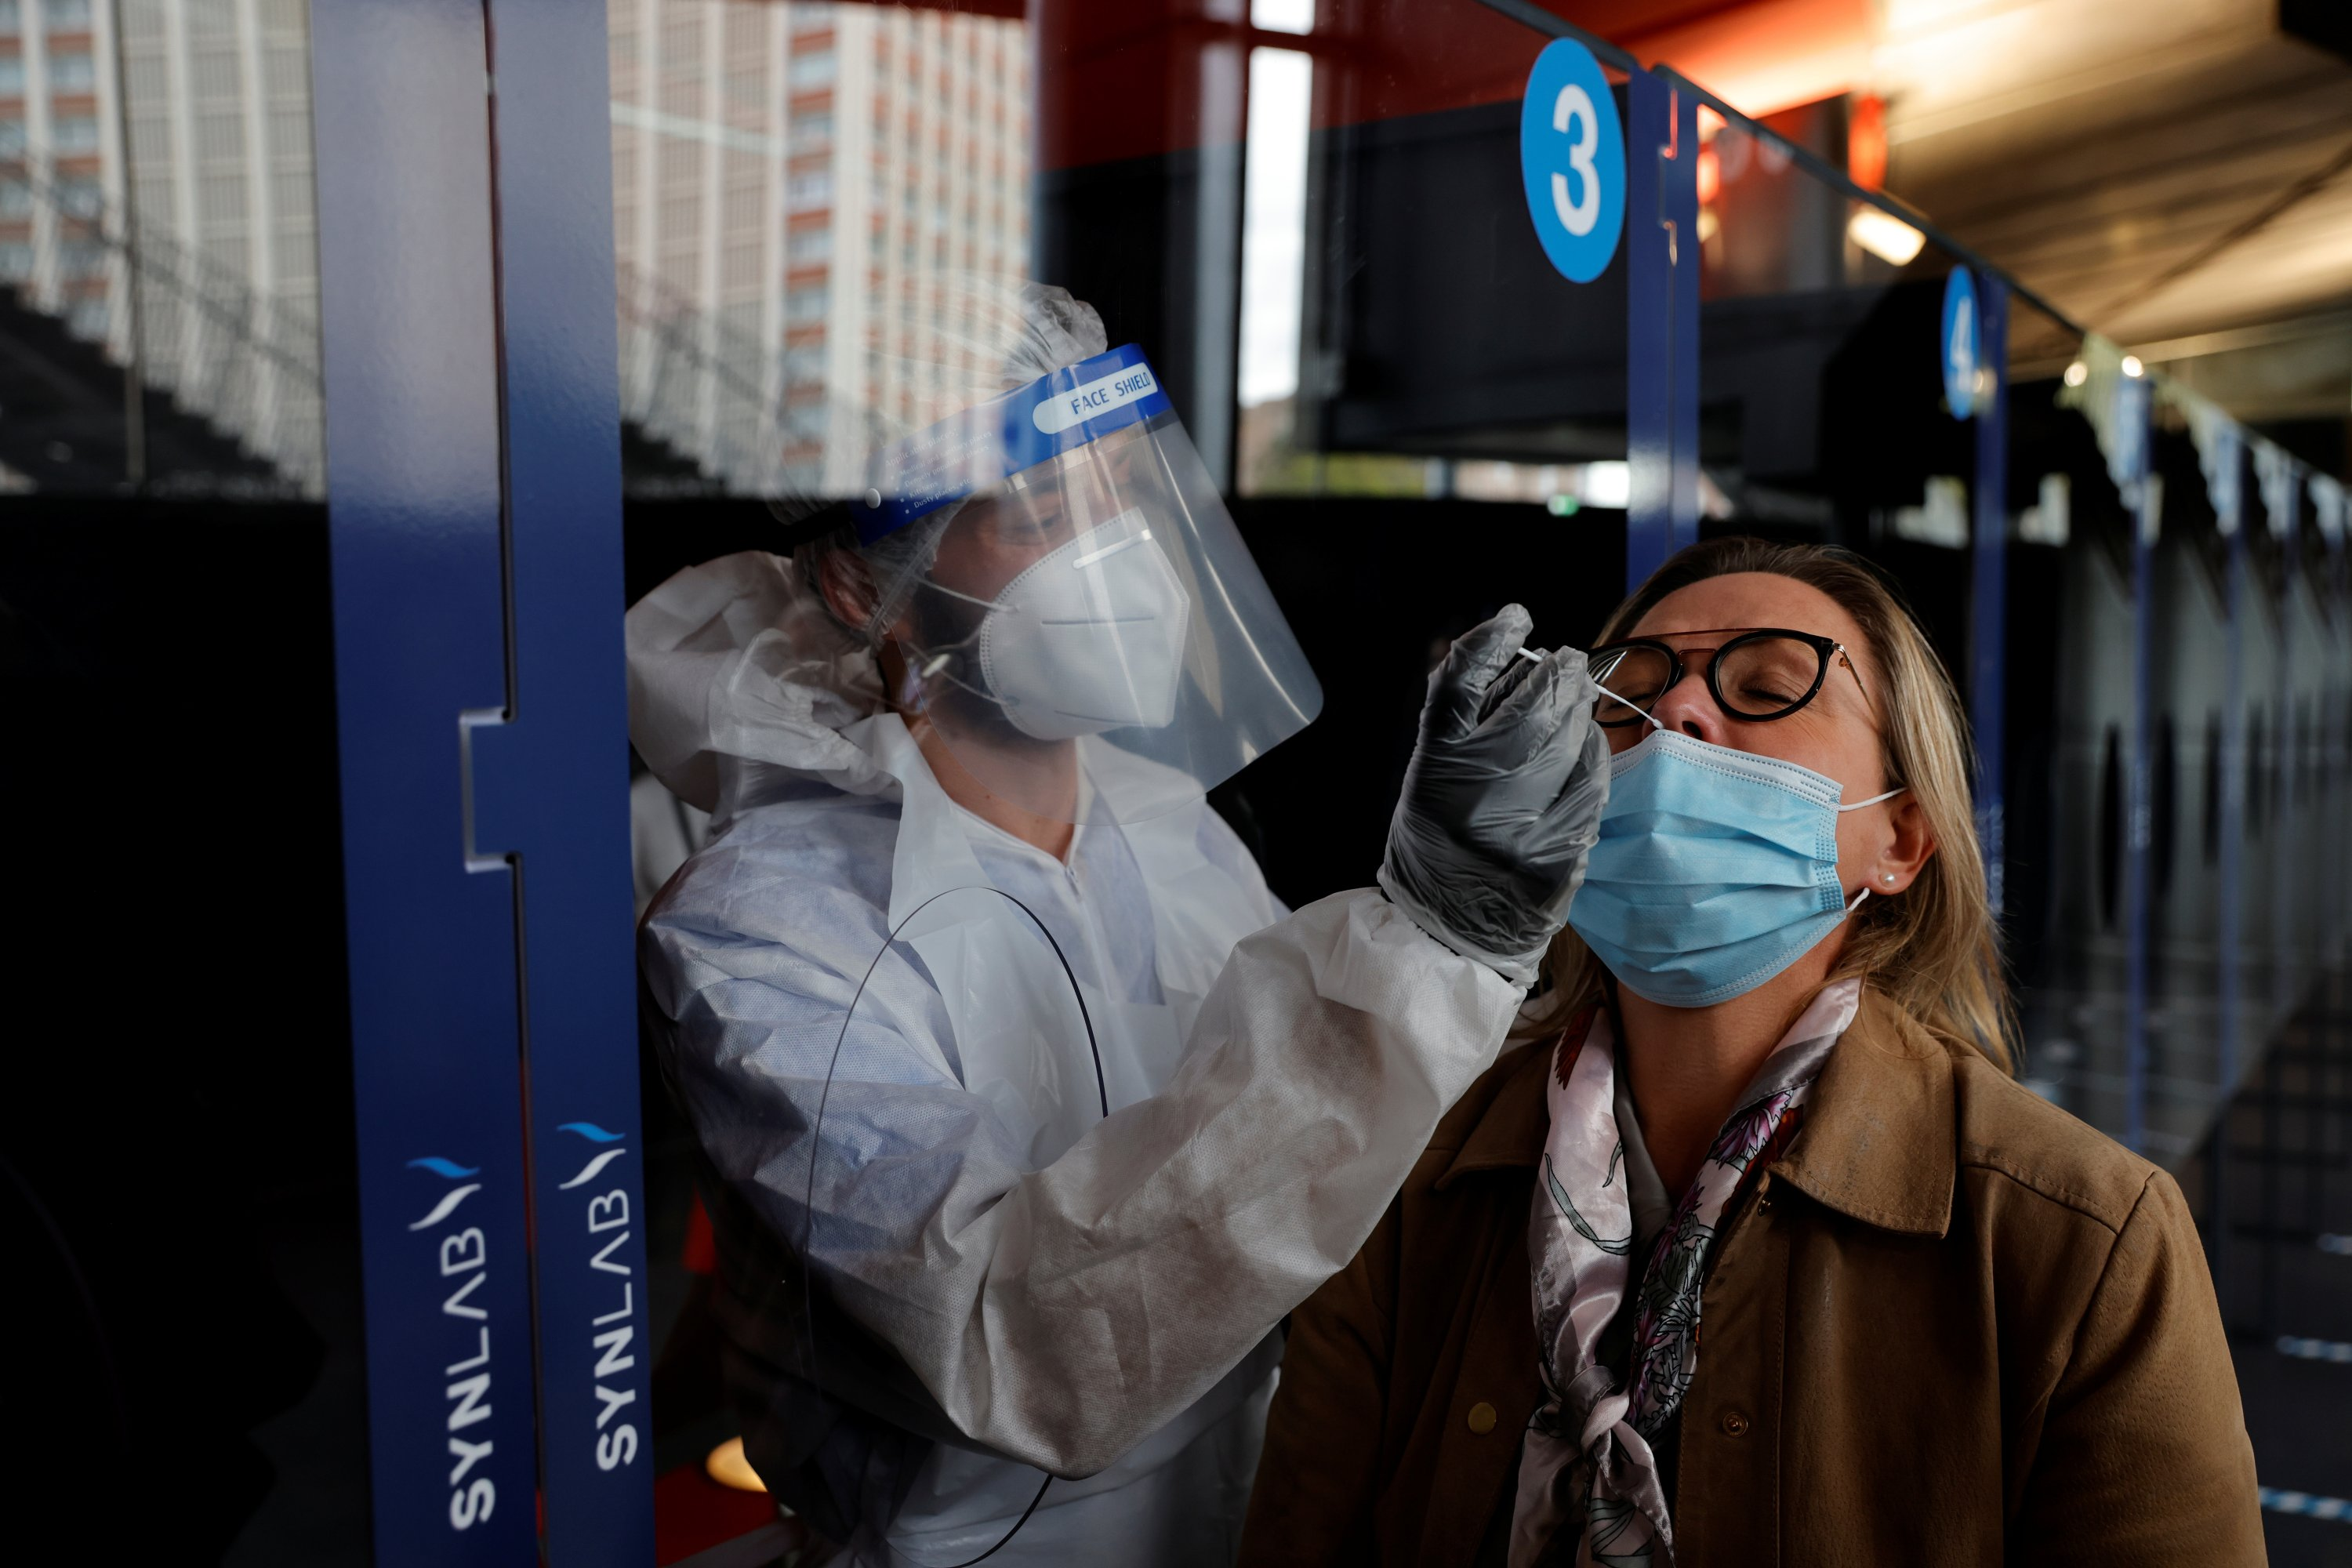Coverall: (614, 568, 1402, 1568)
Face_Shield: (971, 332, 1290, 789)
Gloves: (1365, 581, 1618, 993)
mask_weared_incorrect: (1552, 620, 1859, 1016)
with_mask: (978, 450, 1193, 758)
